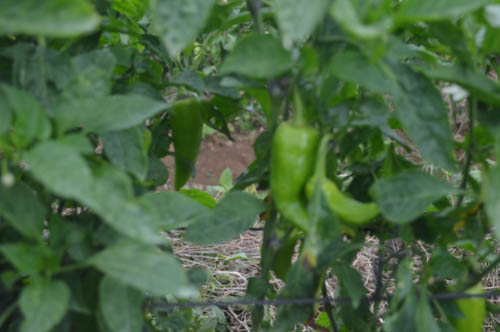ChiliPepper: (270, 123, 320, 225), (310, 177, 382, 227), (169, 98, 204, 190)
